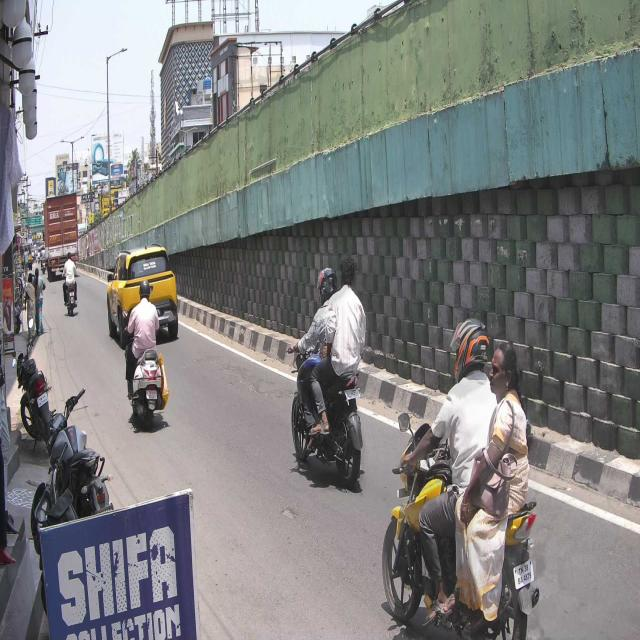double_rider: (383, 315, 541, 640), (283, 250, 367, 486)
single_rider: (121, 278, 167, 430)
